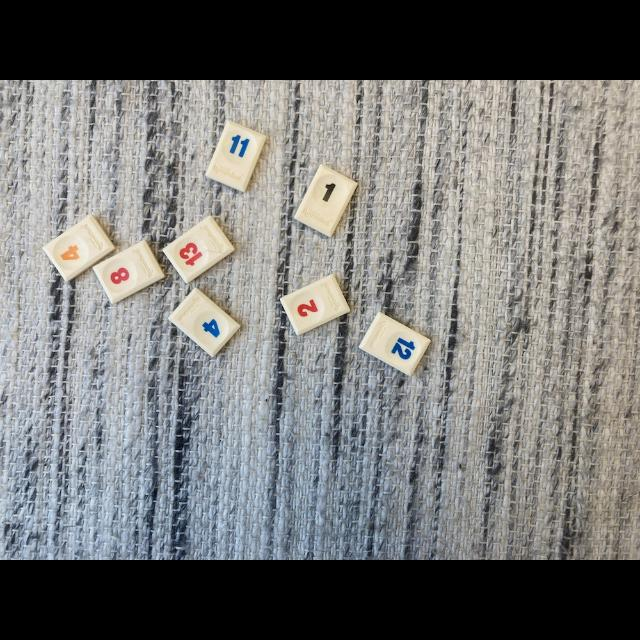black_1: (295, 165, 358, 236)
blue_11: (206, 121, 266, 191)
blue_12: (359, 312, 430, 375)
blue_4: (169, 289, 240, 356)
orange_4: (44, 215, 115, 281)
red_13: (164, 216, 235, 282)
red_2: (280, 274, 350, 335)
red_8: (92, 240, 165, 302)
